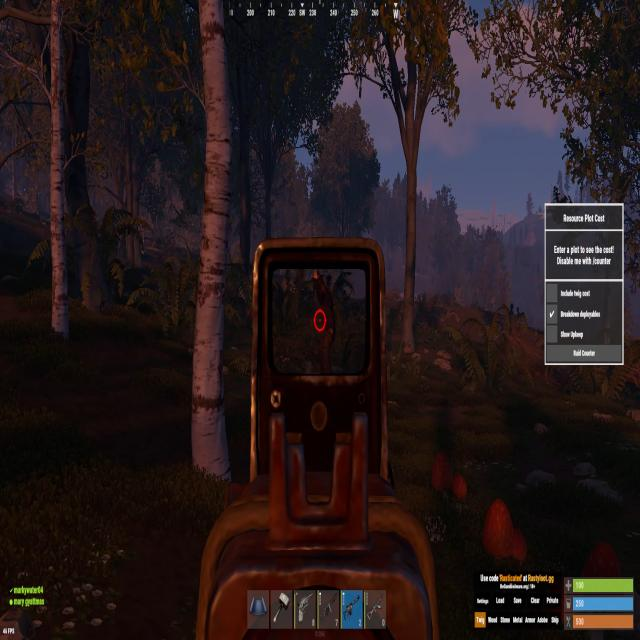Player: (315, 270, 336, 372)
